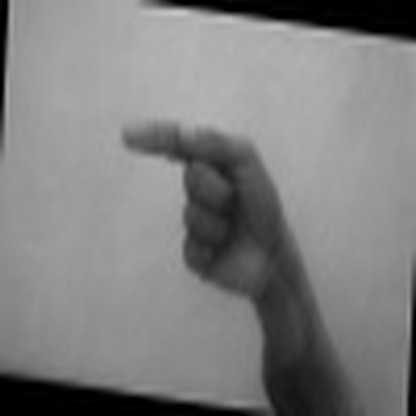g: (110, 111, 298, 295)
